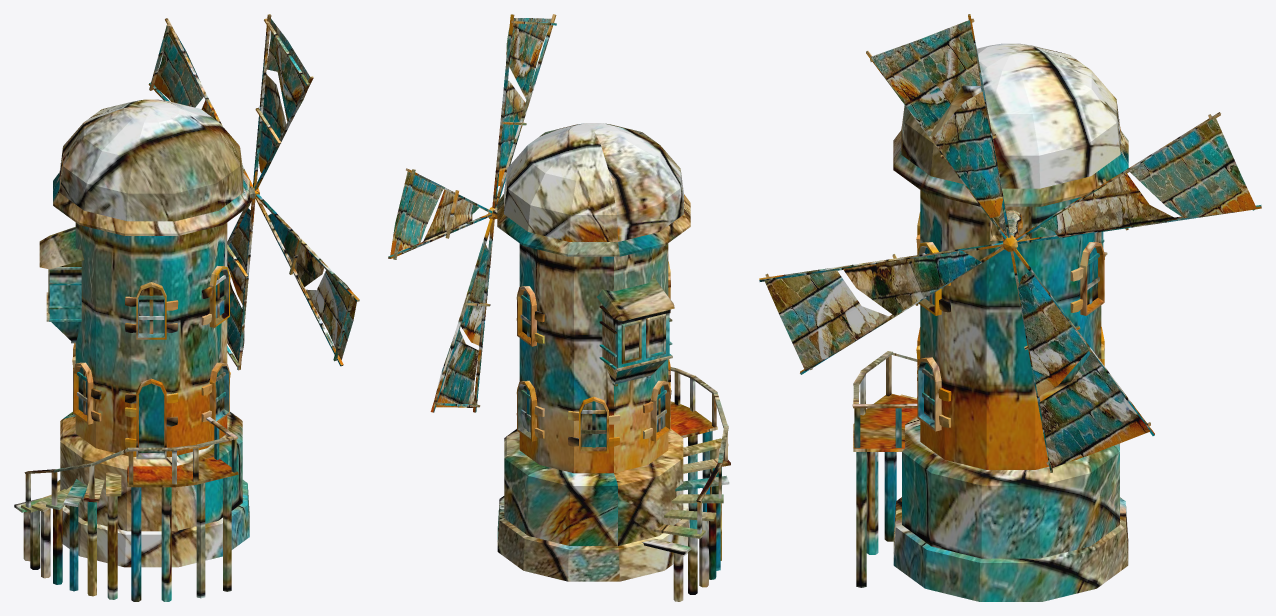
Rendered from windmill.obj.
The picture shows the model from 3 angles, left to right: view 1: azimuth 30°, elevation 25°; view 2: azimuth 150°, elevation 25°; view 3: azimuth 270°, elevation 25°; orthographic projection. The views are drawn at different scales.
Parts seen in each view (by area): view 1: mlyn, lopatky; view 2: mlyn, lopatky; view 3: mlyn, lopatky.
Part boxes in pixels (<box>): mlyn: <box>14,99,249,601</box>; lopatky: <box>148,14,359,370</box>; mlyn: <box>497,123,730,601</box>; lopatky: <box>388,14,556,412</box>; mlyn: <box>852,43,1128,601</box>; lopatky: <box>759,14,1261,472</box>.
Size of the model in its own units: 5.22 by 11.3 by 8.28.
